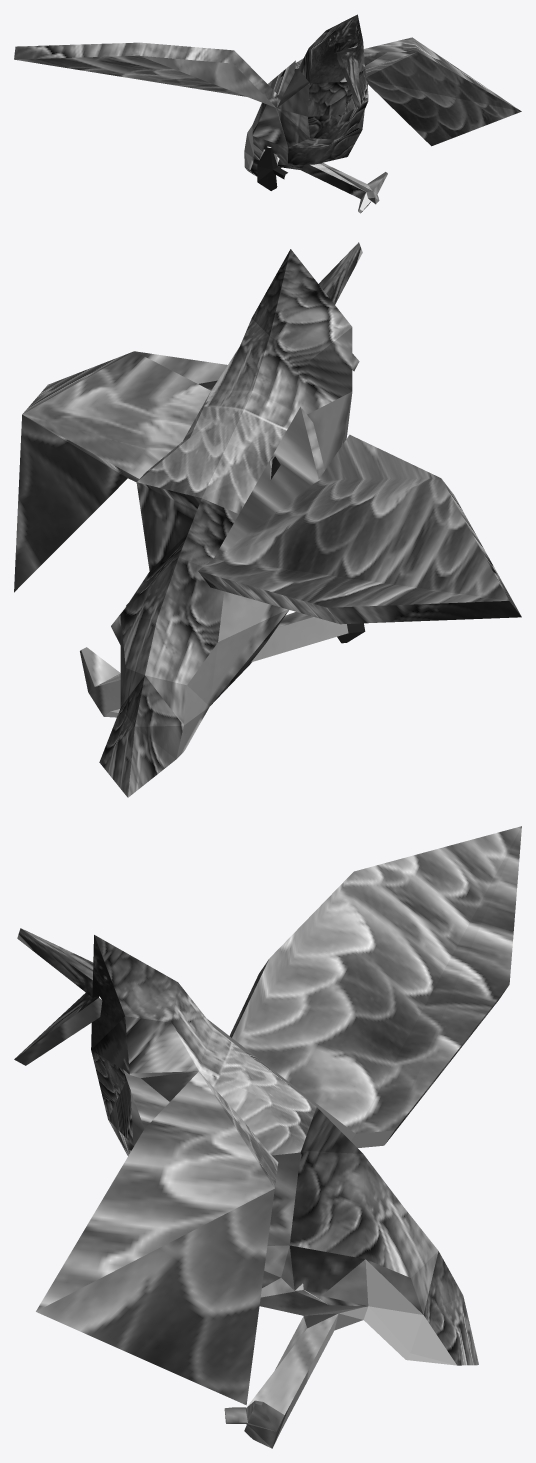
File: crow.glb
3 renders of one model, top to bottom at view 1: azimuth 30°, elevation 25°; view 2: azimuth 150°, elevation 25°; view 3: azimuth 270°, elevation 25°, orthographic. The views are drawn at different scales.
Parts seen in each view (by area): view 1: Cube.001; view 2: Cube.001; view 3: Cube.001.
Part boxes in pixels (x1,y1,x2,y2): Cube.001: (14, 14, 521, 213); Cube.001: (14, 242, 521, 797); Cube.001: (14, 826, 521, 1448).
Size of the model in its own units: 0.8676 by 0.5171 by 0.5135.
Materials: 1 (1 with a texture image).
